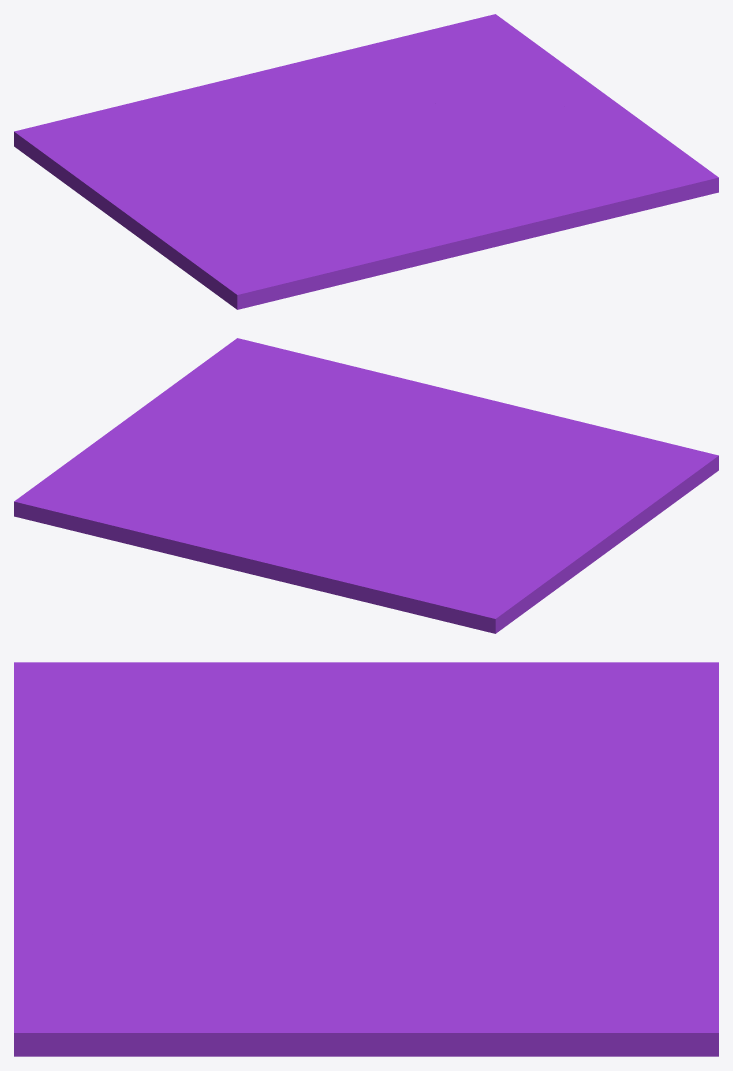
Rendered from Platform_18_chunks.fbx.
The picture shows the model from 3 angles, top to bottom: view 1: azimuth 30°, elevation 25°; view 2: azimuth 150°, elevation 25°; view 3: azimuth 270°, elevation 25°; orthographic projection. The views are drawn at different scales.
Parts seen in each view (by area): view 1: Platform_18_5, Platform_18_11, Platform_18_1, Platform_18_8, Platform_18_2, Platform_18_7, Platform_18_4, Platform_18_14, Platform_18_3, Platform_18_10, Platform_18_12, Platform_18_13 (+2 smaller); view 2: Platform_18_11, Platform_18_5, Platform_18_8, Platform_18_1, Platform_18_7, Platform_18_4, Platform_18_2, Platform_18_14, Platform_18_10, Platform_18_3, Platform_18_12, Platform_18_13 (+2 smaller); view 3: Platform_18_11, Platform_18_5, Platform_18_8, Platform_18_4, Platform_18_1, Platform_18_7, Platform_18_2, Platform_18_10, Platform_18_14, Platform_18_3, Platform_18_13, Platform_18_12 (+2 smaller).
Boxes of the visible parts, x1,y1,x2,y2 form: Platform_18_5: [180, 177, 362, 309]; Platform_18_11: [332, 14, 606, 105]; Platform_18_1: [355, 148, 487, 280]; Platform_18_8: [141, 54, 392, 146]; Platform_18_2: [520, 133, 718, 239]; Platform_18_7: [100, 100, 357, 185]; Platform_18_4: [392, 96, 657, 171]; Platform_18_14: [114, 170, 242, 268]; Platform_18_3: [474, 166, 595, 248]; Platform_18_10: [328, 103, 568, 152]; Platform_18_12: [14, 120, 123, 219]; Platform_18_13: [59, 110, 212, 172]; Platform_18_11: [14, 419, 247, 555]; Platform_18_5: [417, 427, 718, 510]; Platform_18_8: [175, 494, 369, 601]; Platform_18_1: [342, 397, 600, 475]; Platform_18_7: [364, 470, 492, 611]; Platform_18_4: [126, 382, 344, 471]; Platform_18_2: [177, 338, 359, 416]; Platform_18_14: [475, 497, 662, 559]; Platform_18_10: [165, 429, 368, 496]; Platform_18_3: [313, 368, 481, 429]; Platform_18_12: [443, 559, 595, 633]; Platform_18_13: [405, 527, 505, 620]; Platform_18_11: [365, 903, 718, 1056]; Platform_18_5: [14, 662, 361, 824]; Platform_18_8: [424, 759, 718, 906]; Platform_18_4: [205, 866, 366, 1056]; Platform_18_1: [14, 753, 365, 898]; Platform_18_7: [300, 728, 718, 834]; Platform_18_2: [14, 927, 221, 1056]; Platform_18_10: [365, 832, 510, 1002]; Platform_18_14: [194, 662, 467, 751]; Platform_18_3: [14, 845, 223, 938]; Platform_18_13: [437, 696, 718, 746]; Platform_18_12: [523, 662, 718, 704].
Bounding box in the file's own units: 1009 × 29.87 × 810.
